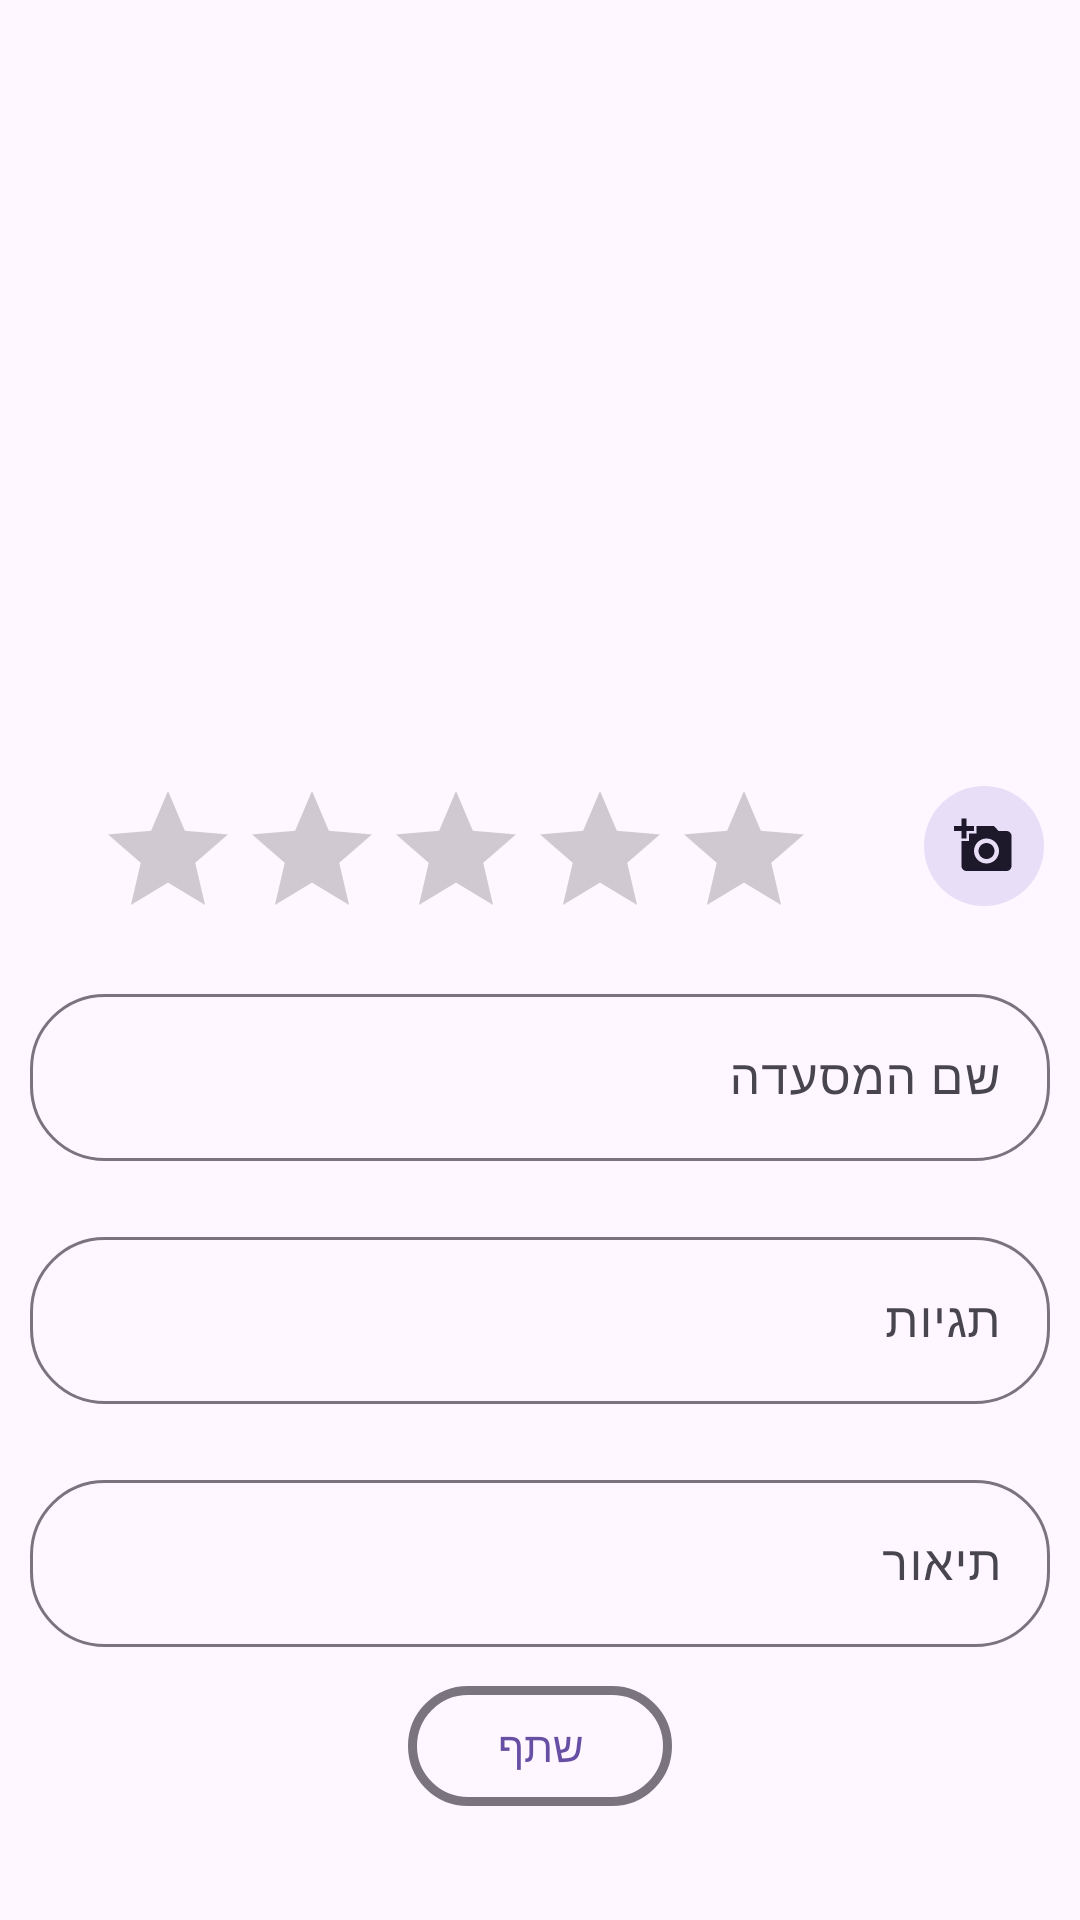

Locate icon controls on the screen. Image size 1080 x 1920, boxes as bbox(x1, y1, x2, y2).
add photo: bbox(924, 786, 1044, 906)
